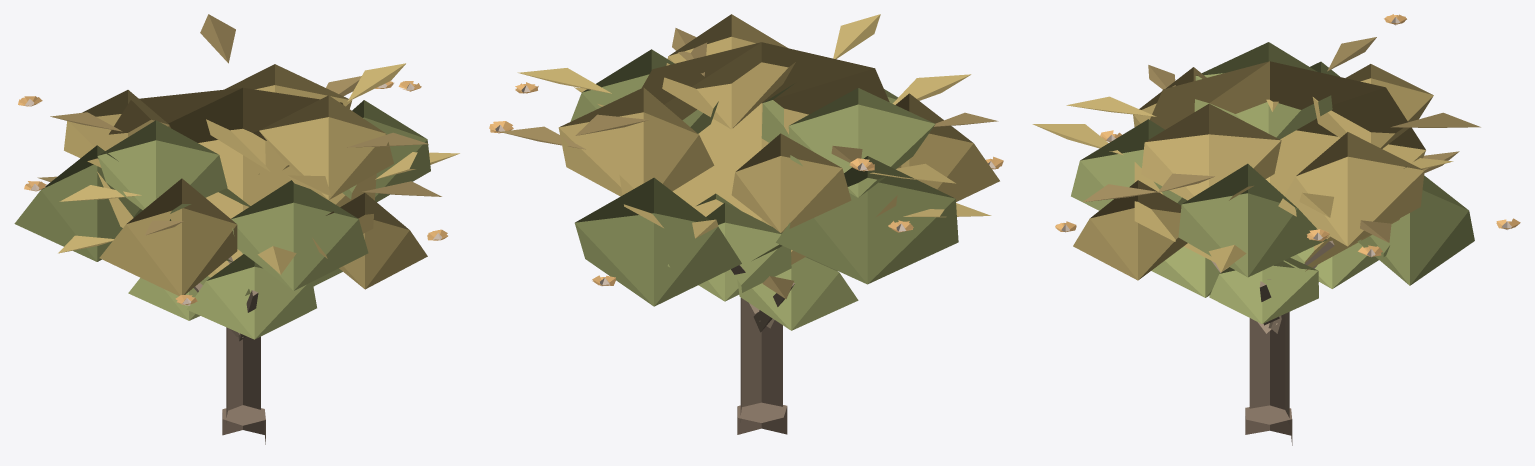
The model's file is shu.fenghuang@flowering__autumn.glb.
The picture shows the model from 3 angles, left to right: view 1: azimuth 30°, elevation 25°; view 2: azimuth 150°, elevation 25°; view 3: azimuth 270°, elevation 25°; orthographic projection. The views are drawn at different scales.
Parts seen in each view (by area): view 1: shu.fenghuang@flowering__autumn; view 2: shu.fenghuang@flowering__autumn; view 3: shu.fenghuang@flowering__autumn.
Part boxes in pixels (left/top/right/bottom): shu.fenghuang@flowering__autumn: left=14, top=14, right=459, bottom=444; shu.fenghuang@flowering__autumn: left=489, top=14, right=1003, bottom=434; shu.fenghuang@flowering__autumn: left=1032, top=14, right=1520, bottom=445.
Bounding box in the file's own units: 14.45 × 12.07 × 14.61.
